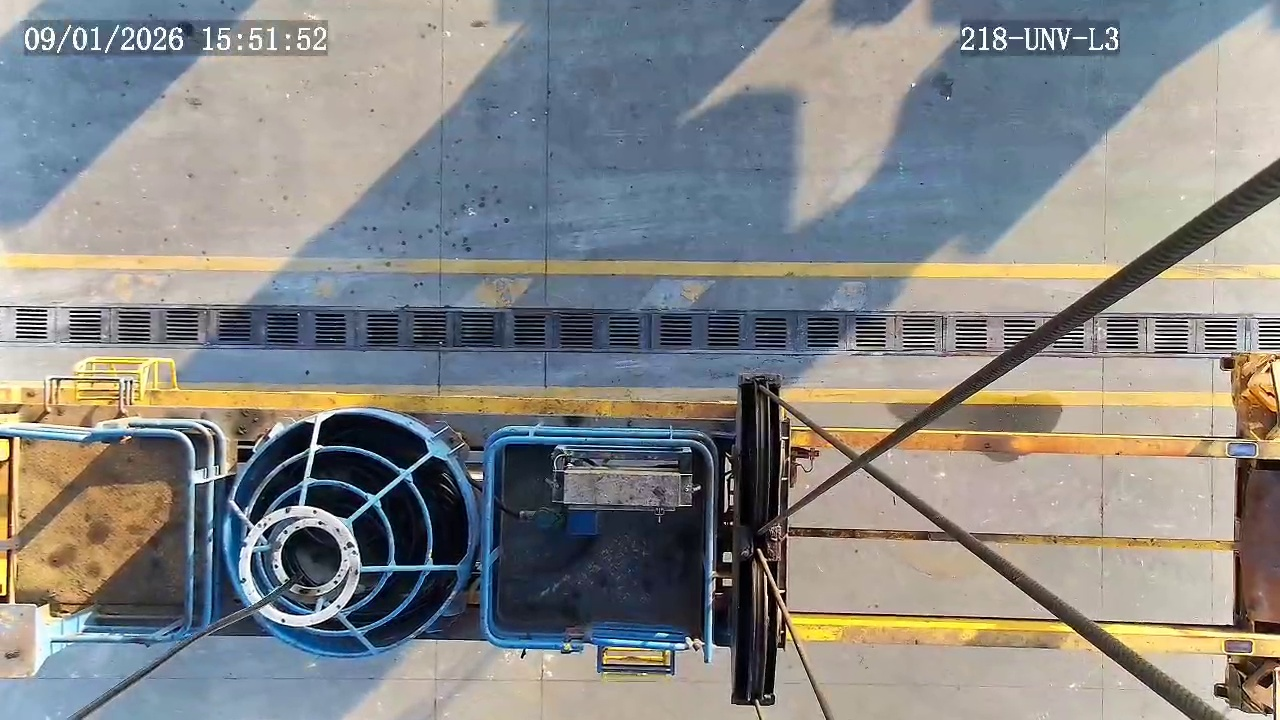right: (239, 505, 358, 628)
